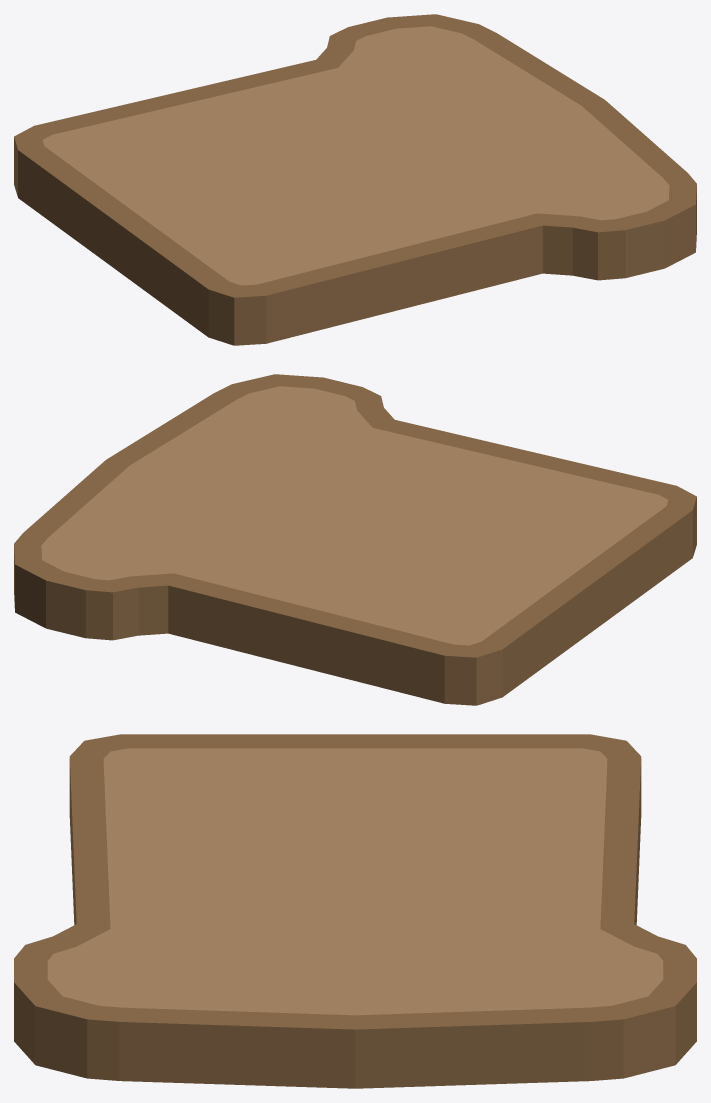
Rendered from Toast_01.fbx.
The picture shows the model from 3 angles, top to bottom: view 1: azimuth 30°, elevation 25°; view 2: azimuth 150°, elevation 25°; view 3: azimuth 270°, elevation 25°; orthographic projection. The views are drawn at different scales.
Parts seen in each view (by area): view 1: Toast_01; view 2: Toast_01; view 3: Toast_01.
Boxes of the visible parts, x1,y1,x2,y2 form: Toast_01: [14, 14, 696, 345]; Toast_01: [14, 374, 696, 705]; Toast_01: [14, 734, 696, 1088].
Bounding box in the file's own units: 15.23 × 1.42 × 14.88.
